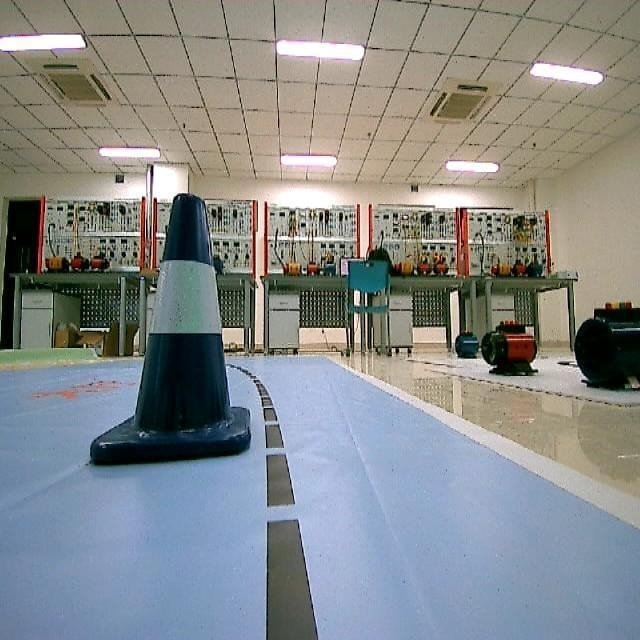obstacle: (84, 192, 254, 466)
